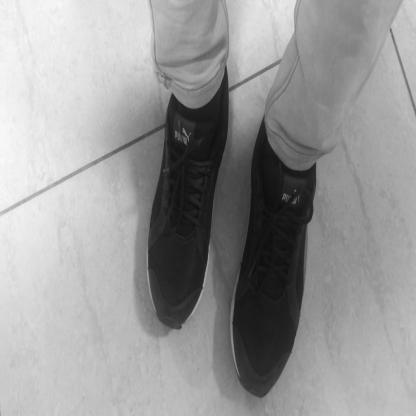ankle: (267, 174, 269, 181), (209, 110, 211, 116)
heel: (263, 127, 265, 130), (226, 79, 227, 82)
left_foot: (232, 116, 318, 400)
pinky: (151, 253, 153, 259), (288, 351, 290, 356)
right_foot: (148, 66, 230, 330)
toe: (194, 297, 197, 304), (238, 360, 240, 364)
